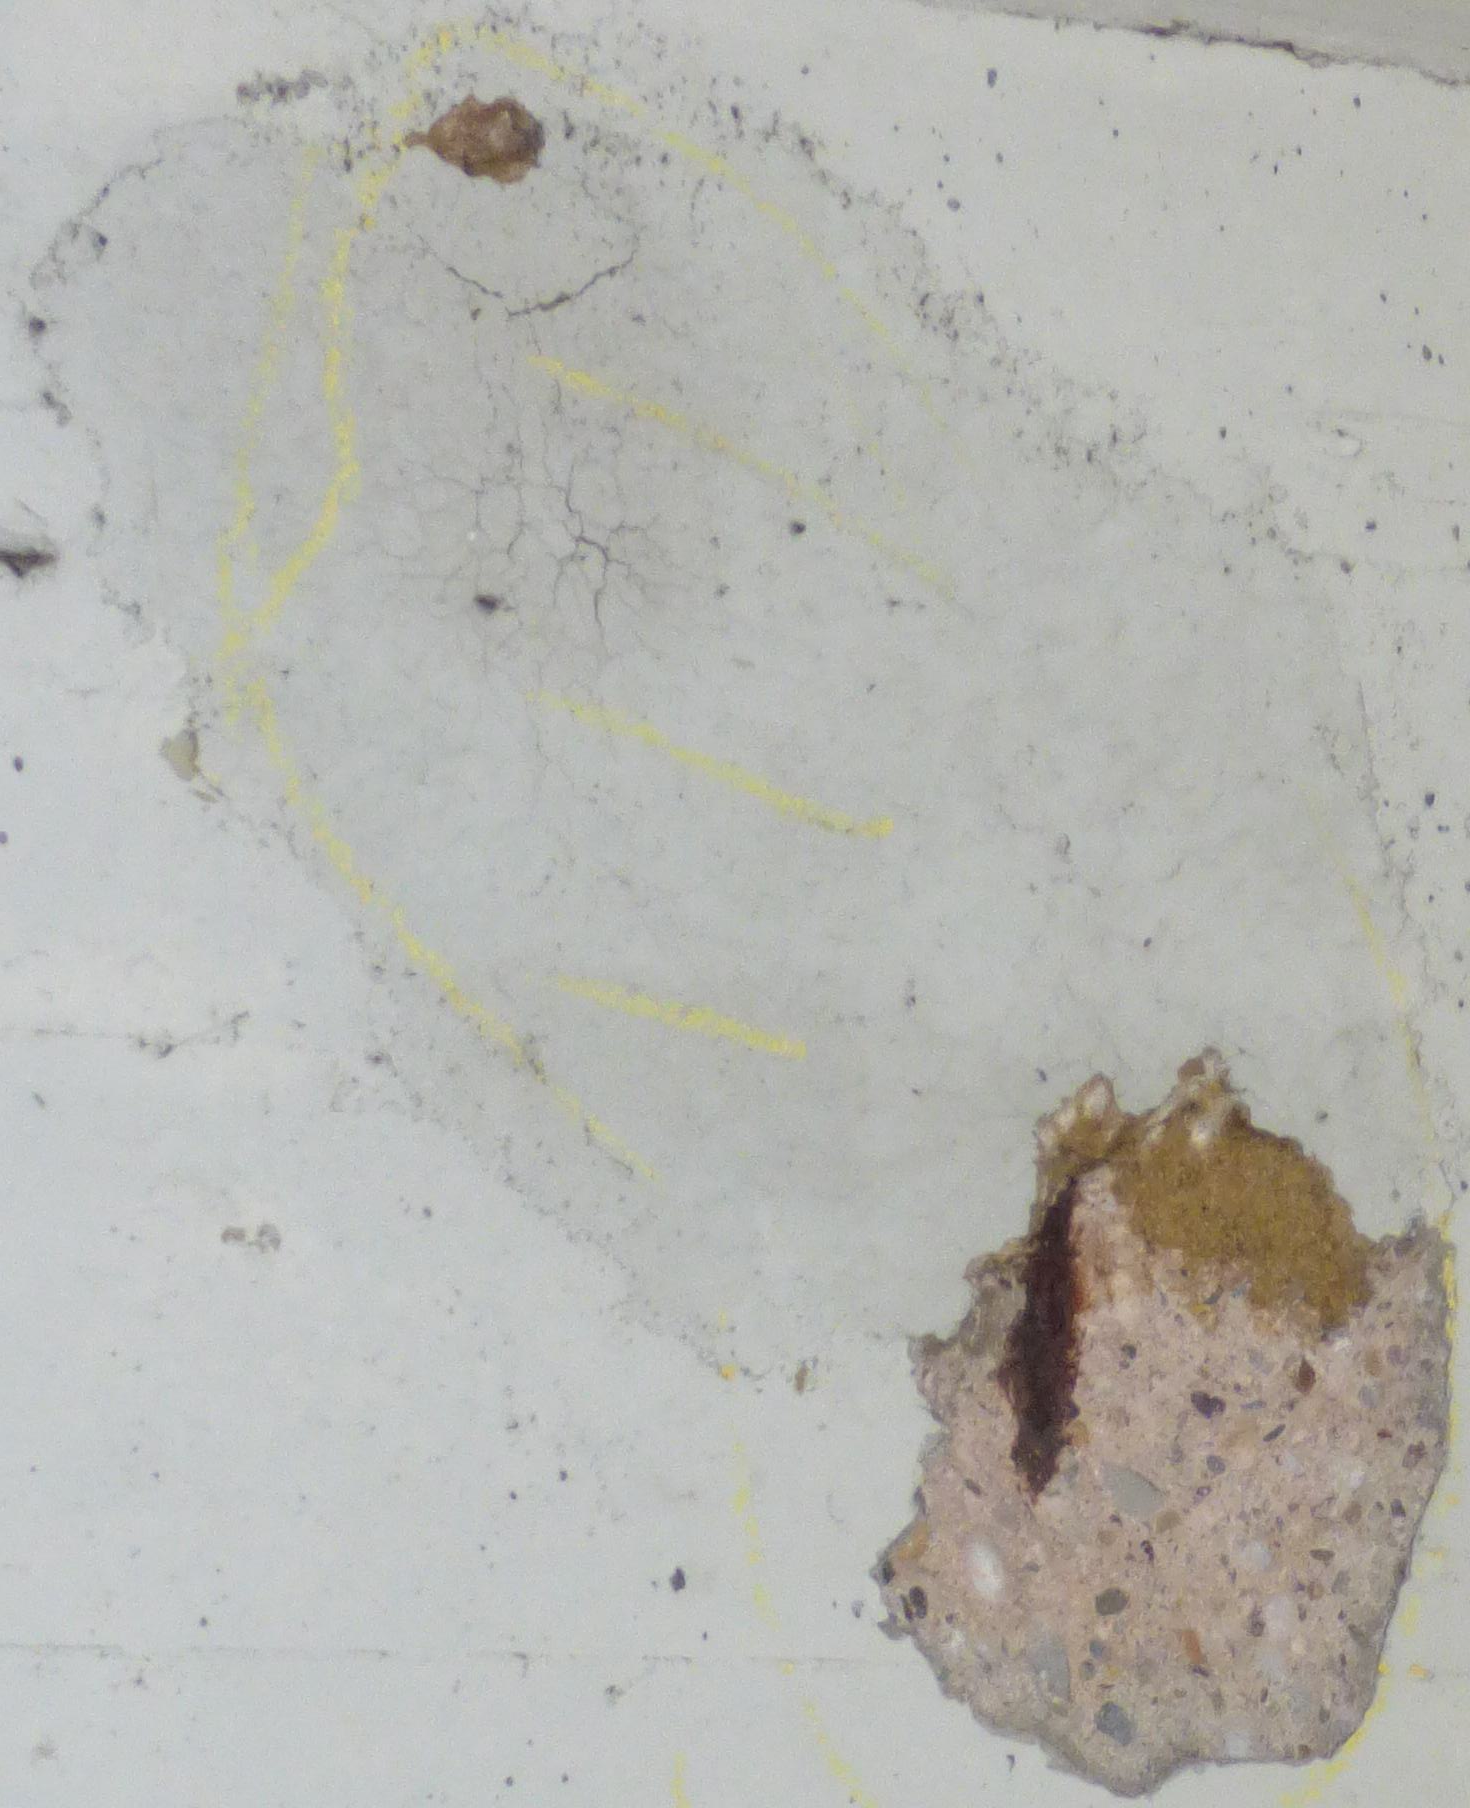Exposed reinforcement: (993, 1176, 1078, 1502)
Spalling: (871, 1041, 1455, 1800), (400, 93, 547, 188)
